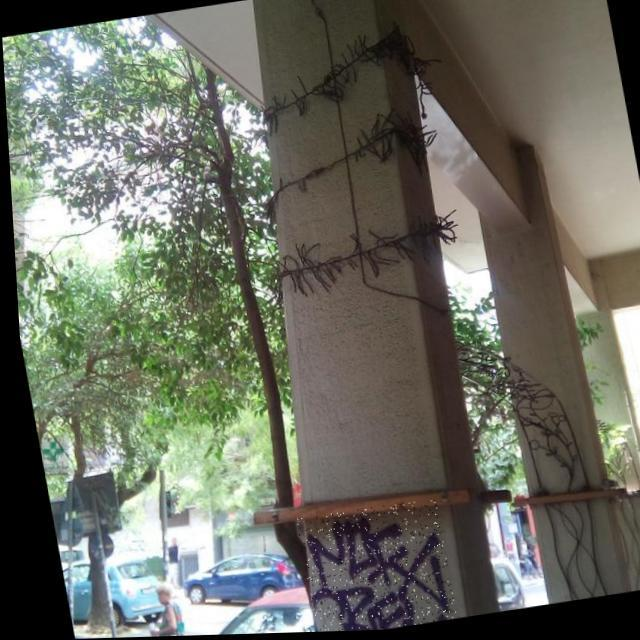-: (288, 499, 449, 634)
